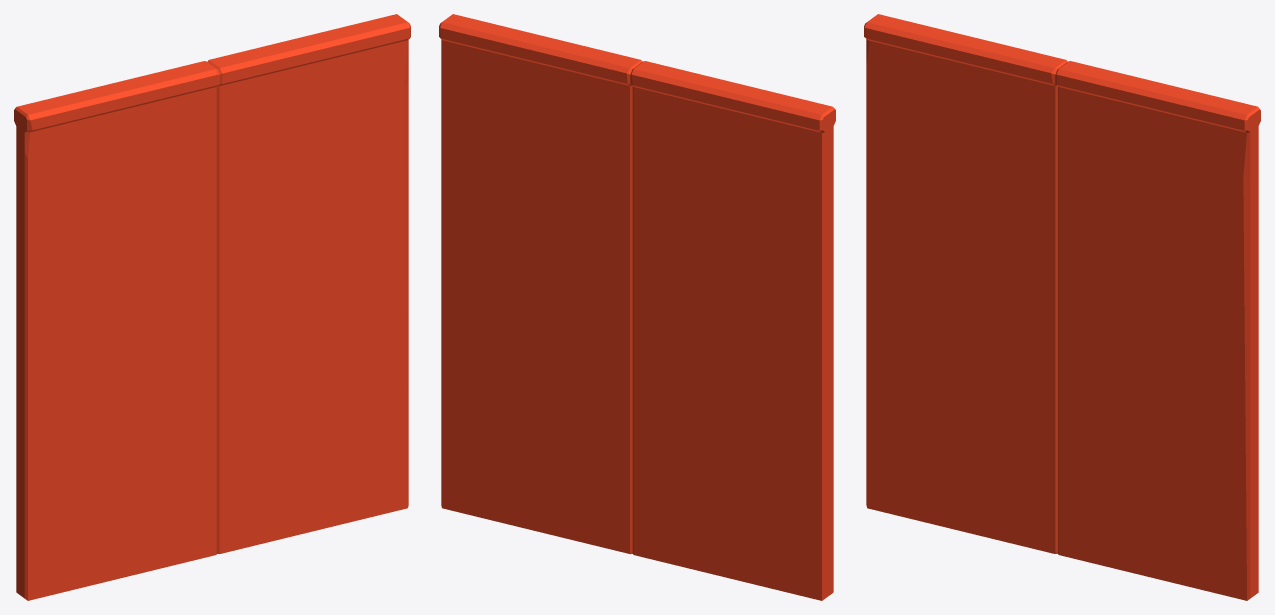
Rendered from SM_Wall_B_Straight_Short_City.fbx.
3 renders of one model, left to right at view 1: azimuth 30°, elevation 25°; view 2: azimuth 150°, elevation 25°; view 3: azimuth 330°, elevation 25°, orthographic.
Visible parts, largest first — view 1: SM_Wall_B_Straight_Short_City; view 2: SM_Wall_B_Straight_Short_City; view 3: SM_Wall_B_Straight_Short_City.
Boxes of the visible parts, left/top/right/bottom form: SM_Wall_B_Straight_Short_City: left=14, top=14, right=410, bottom=600; SM_Wall_B_Straight_Short_City: left=439, top=14, right=835, bottom=600; SM_Wall_B_Straight_Short_City: left=864, top=14, right=1260, bottom=600.
Size of the model in its own units: 10 by 12.1 by 0.7063.
